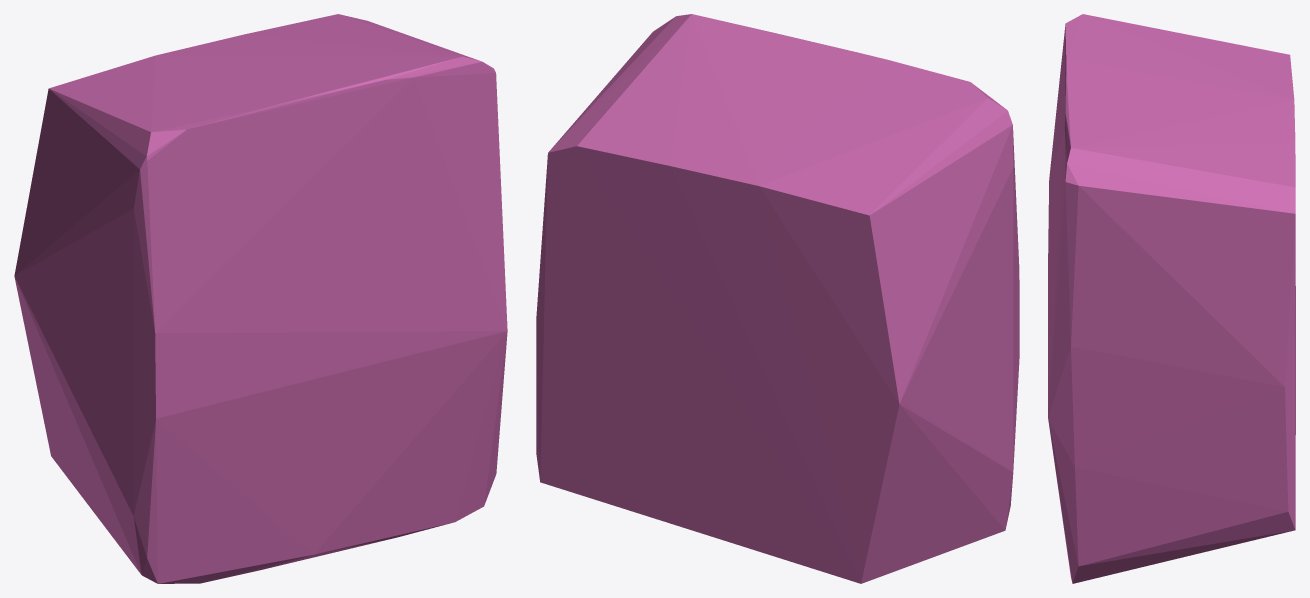
Rendered from storage_basket_plastic_mini_a01.glb.
3 views of the same model, side by side, from view 1: azimuth 30°, elevation 25°; view 2: azimuth 150°, elevation 25°; view 3: azimuth 270°, elevation 25° (orthographic). The views are drawn at different scales.
Parts seen in each view (by area): view 1: geometry_0; view 2: geometry_0; view 3: geometry_0.
Part boxes in pixels (x1=…): geometry_0: x1=14, y1=14, x2=507, y2=583; geometry_0: x1=536, y1=14, x2=1019, y2=583; geometry_0: x1=1048, y1=14, x2=1295, y2=583.
Size of the model in its own units: 0.3994 by 0.4777 by 0.2468.
